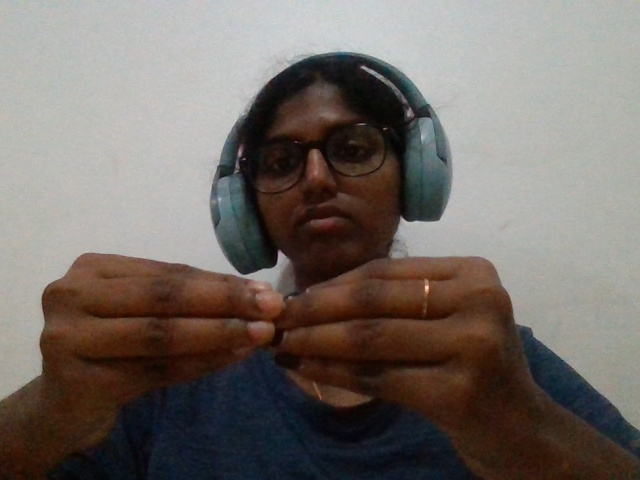More: (5, 223, 570, 471)
